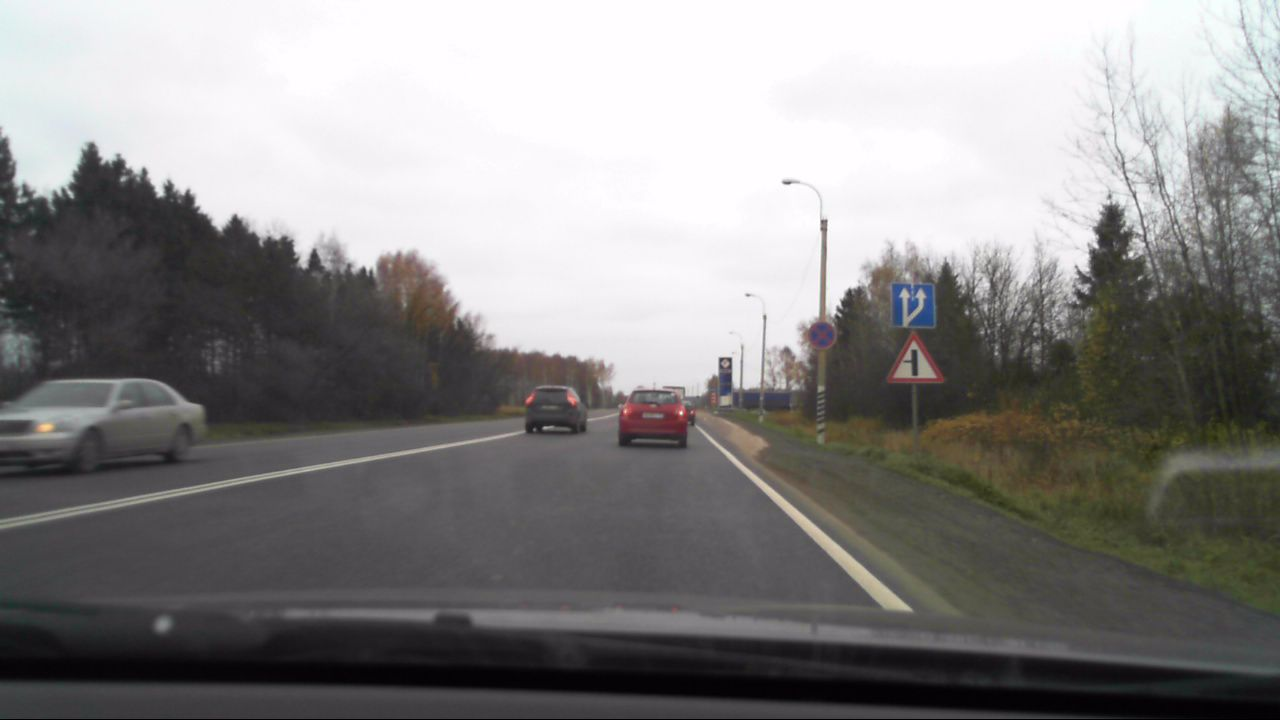No Parking: (803, 318, 838, 349)
